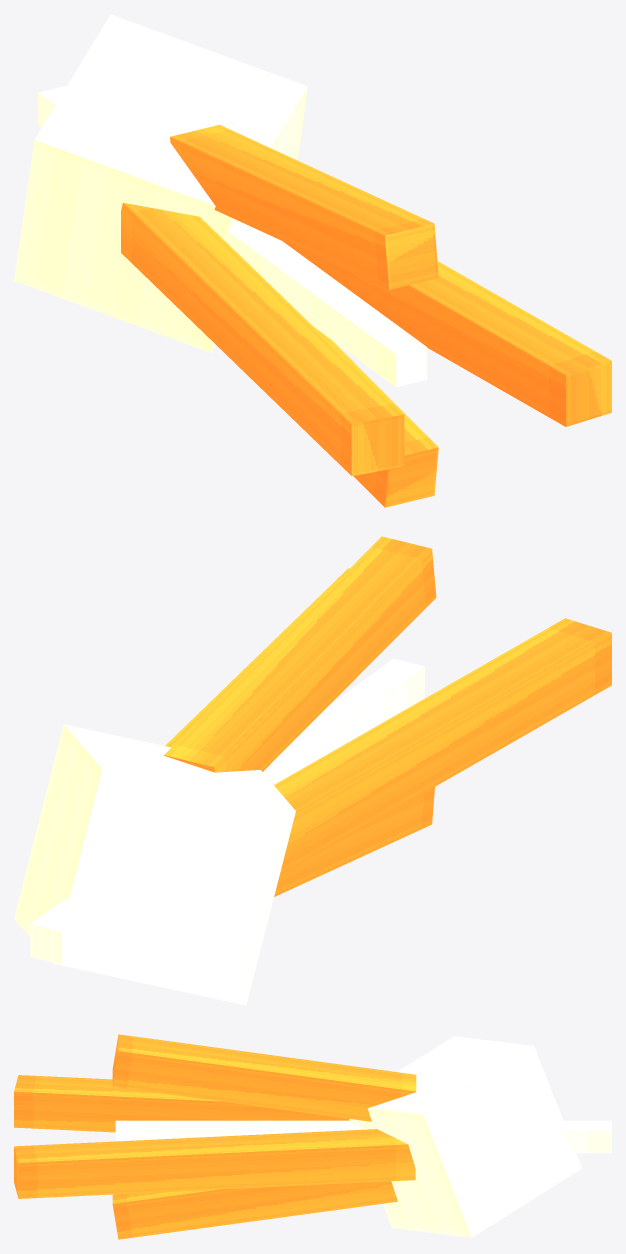
Rendered from projectile_fire_fire.gltf.
The picture shows the model from 3 angles, top to bottom: view 1: azimuth 30°, elevation 25°; view 2: azimuth 150°, elevation 25°; view 3: azimuth 270°, elevation 25°; orthographic projection. The views are drawn at different scales.
Parts seen in each view (by area): view 1: core_mesh; view 2: core_mesh; view 3: core_mesh.
Part boxes in pixels (<box>): core_mesh: <box>14,14,611,507</box>; core_mesh: <box>14,536,611,1005</box>; core_mesh: <box>14,1034,611,1239</box>.
Bounding box in the file's own units: 0.2678 × 0.2619 × 0.7528.
1 material, 1 textured.
